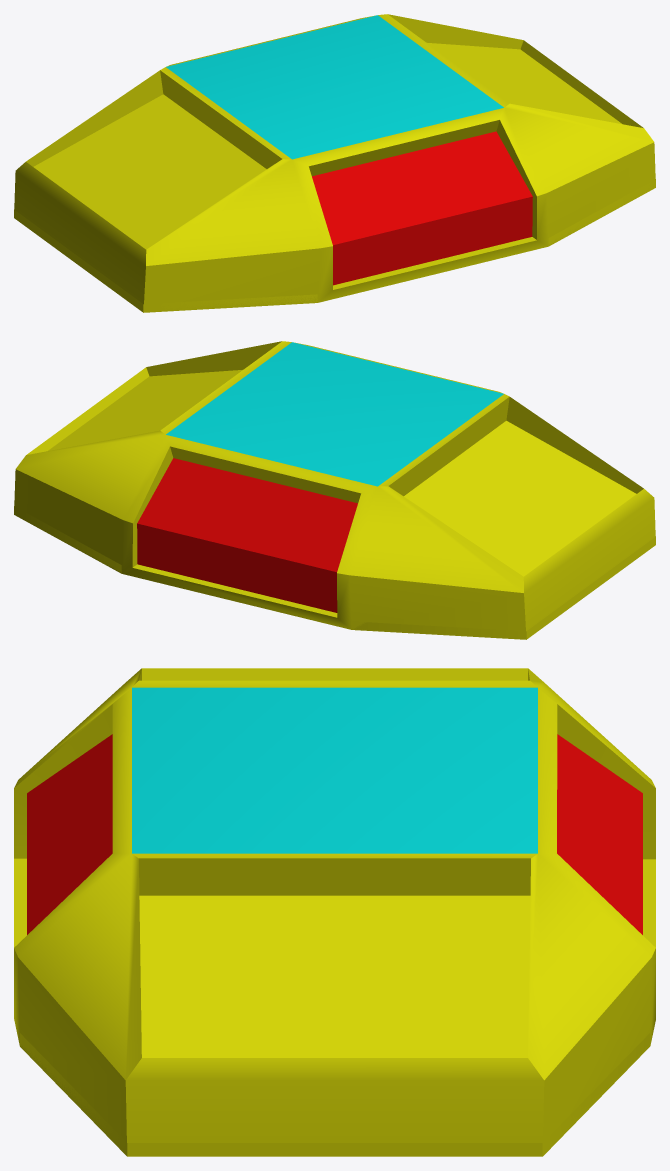
The model's file is HealthPack.fbx.
3 views of the same model, one above another, from view 1: azimuth 30°, elevation 25°; view 2: azimuth 150°, elevation 25°; view 3: azimuth 270°, elevation 25° (orthographic). The views are drawn at different scales.
Visible parts, largest first — view 1: pCube28; view 2: pCube28; view 3: pCube28.
Part boxes in pixels (x1,y1,x2,y2): pCube28: [14, 14, 655, 312]; pCube28: [14, 341, 655, 639]; pCube28: [14, 668, 655, 1156].
Bounding box in the file's own units: 0.3987 × 0.0865 × 0.2696.
